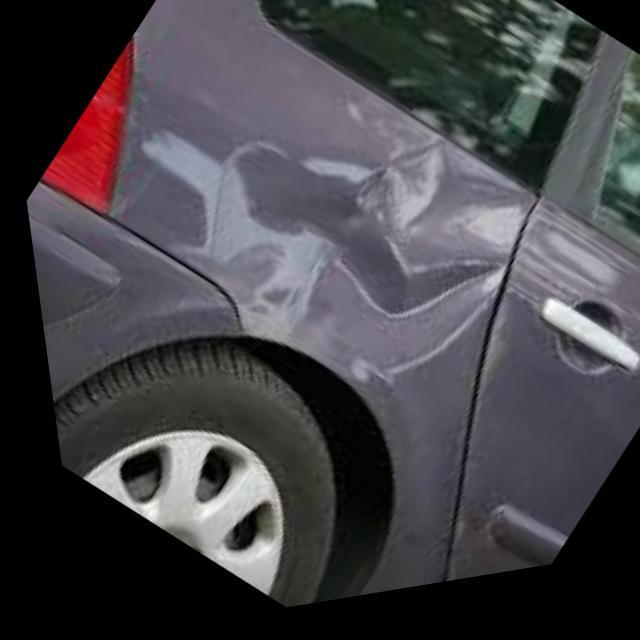dent: (156, 124, 506, 395)
